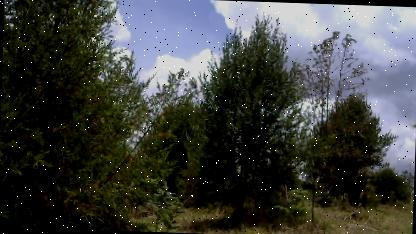tree: (183, 9, 312, 228)
